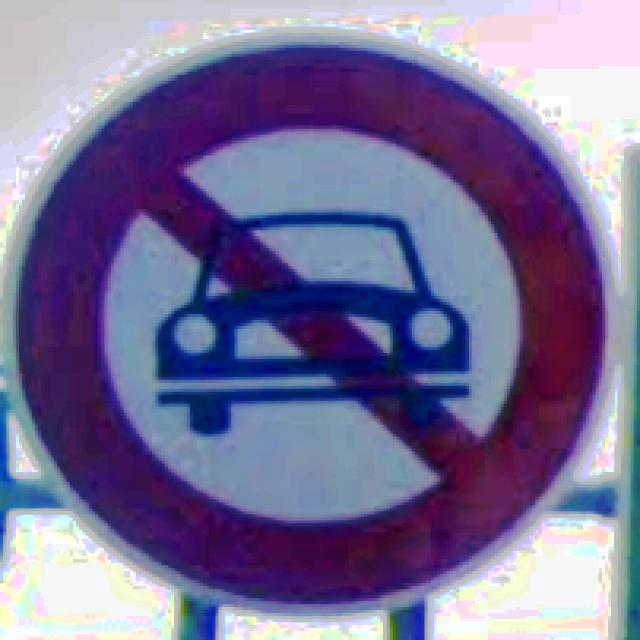nocar: (19, 48, 605, 604)
